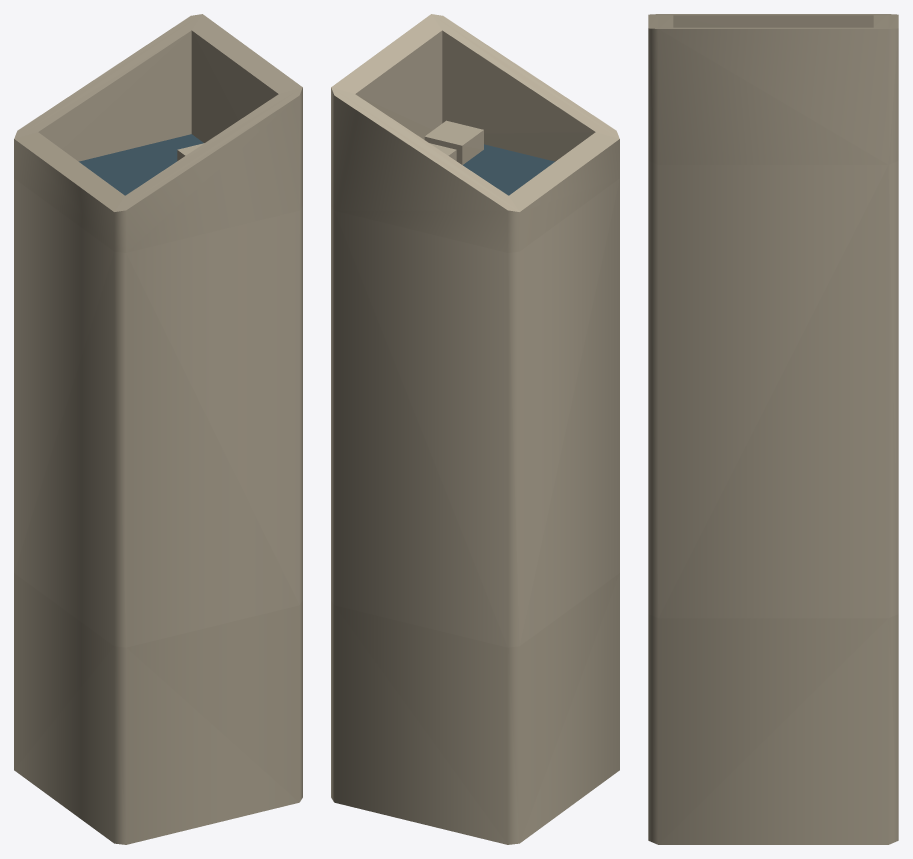
Rendered from block-e.high.1e9a6e5c.glb.
3 renders of one model, left to right at view 1: azimuth 30°, elevation 25°; view 2: azimuth 150°, elevation 25°; view 3: azimuth 270°, elevation 25°, orthographic. The views are drawn at different scales.
Visible parts, largest first — view 1: block-e; view 2: block-e; view 3: block-e.
Boxes of the visible parts, box(x1,y1,x2,y2) form: block-e: box(14, 14, 302, 844); block-e: box(331, 14, 619, 844); block-e: box(648, 14, 898, 844).
Bounding box in the file's own units: 6 × 21.6 × 6.
